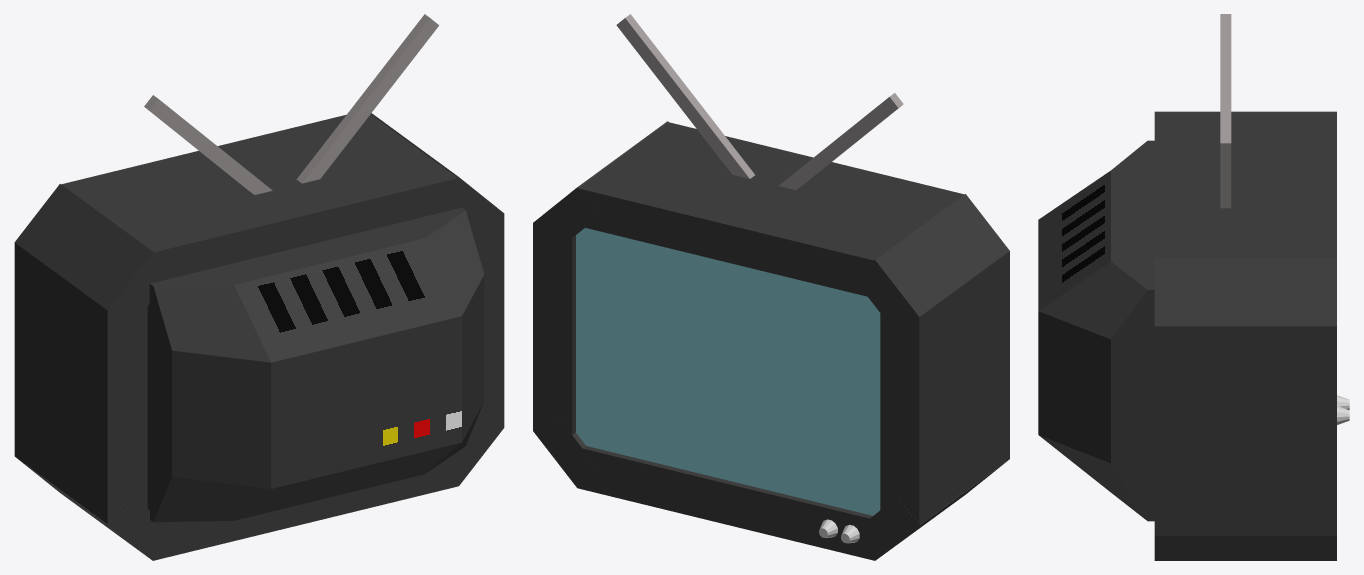
The picture shows the model from 3 angles, left to right: view 1: azimuth 30°, elevation 25°; view 2: azimuth 150°, elevation 25°; view 3: azimuth 270°, elevation 25°; orthographic projection. The views are drawn at different scales.
Parts seen in each view (by area): view 1: corner (×8), cuboid, cube (×2); view 2: corner (×8), tvBase, cube (×2); view 3: corner (×4), cuboid, cube (×2).
Boxes of the visible parts, <box> form: corner (×8): <box>14,113,504,560</box>; cuboid: <box>147,207,484,522</box>; cube (×2): <box>144,14,438,194</box>; corner (×8): <box>533,121,1009,560</box>; tvBase: <box>576,228,880,515</box>; cube (×2): <box>616,14,903,190</box>; corner (×4): <box>1154,113,1336,560</box>; cuboid: <box>1038,140,1154,521</box>; cube (×2): <box>1220,14,1231,208</box>.
Size of the model in its own units: 0.7707 by 0.821 by 0.5344.
1 material, 1 textured.
